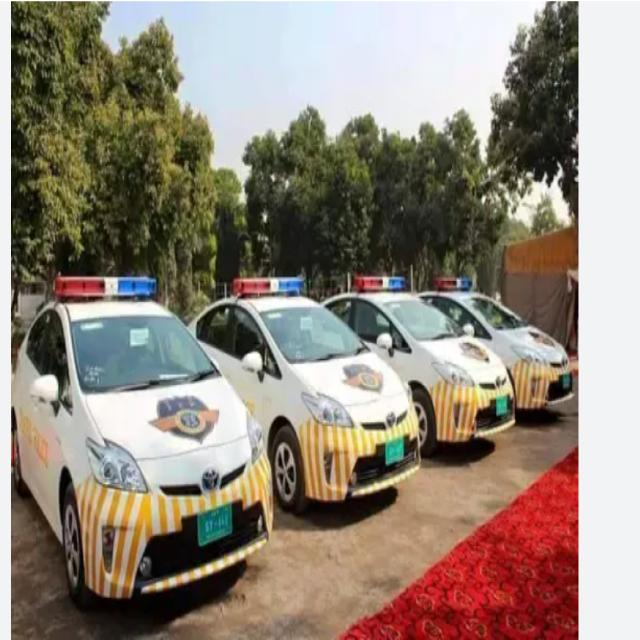police: (203, 238, 562, 461), (4, 306, 252, 575)
